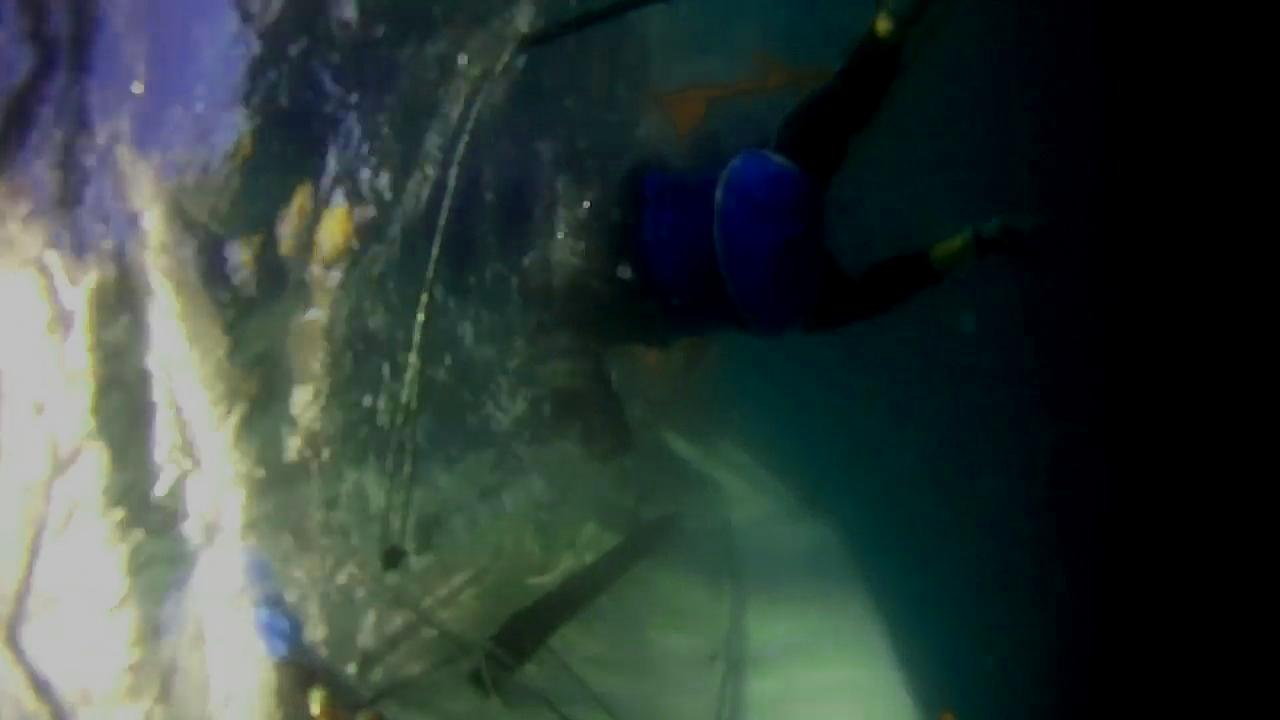person: (563, 2, 1010, 449)
underwater: (0, 0, 1280, 720)
